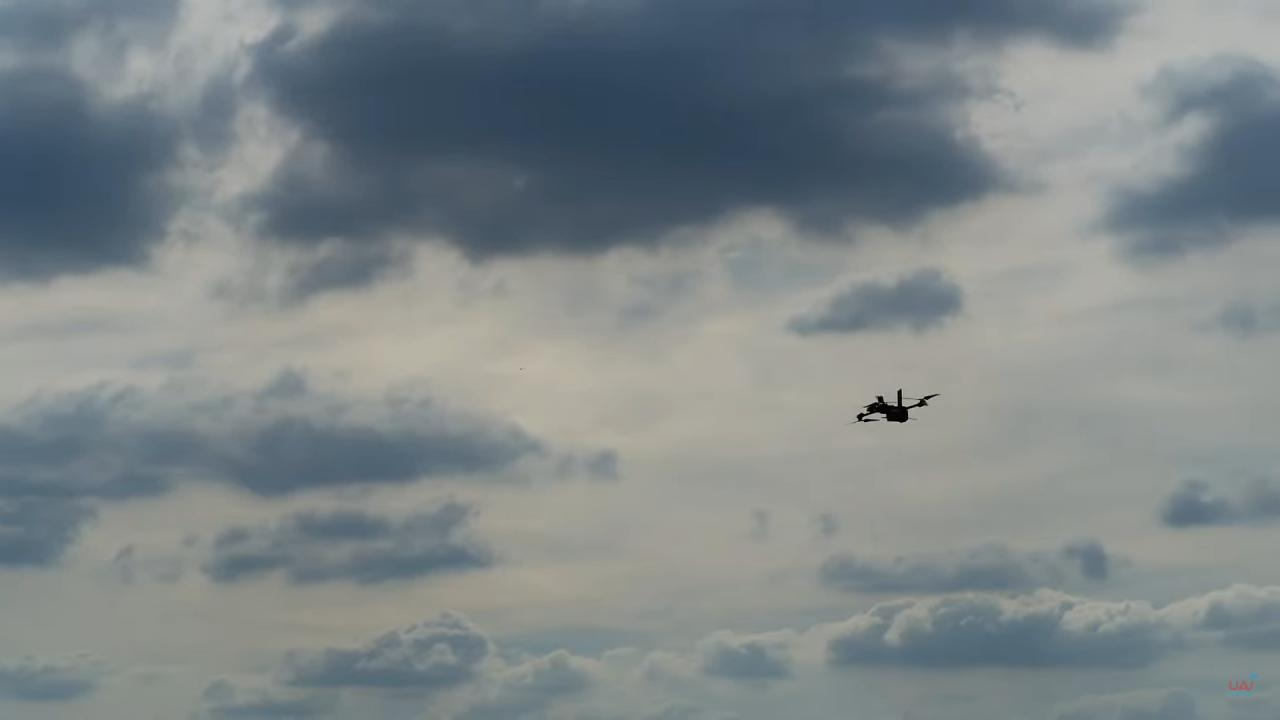Drone: (836, 376, 955, 440)
